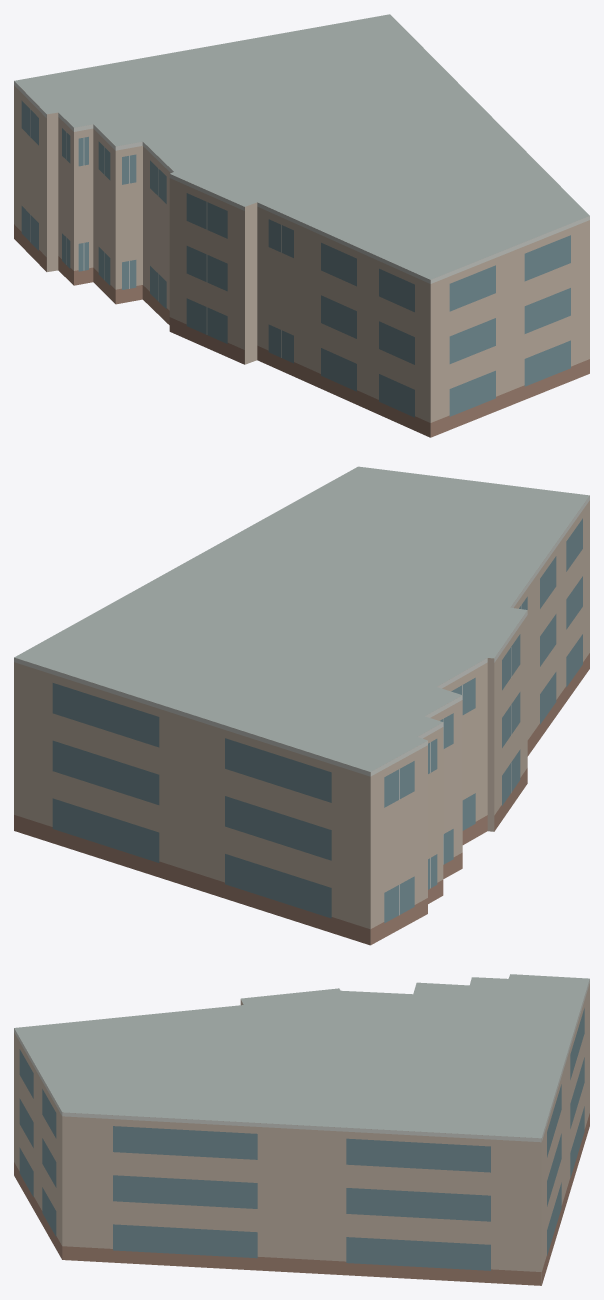
File: survey-upis-32945389.glb
The picture shows the model from 3 angles, top to bottom: view 1: azimuth 30°, elevation 25°; view 2: azimuth 150°, elevation 25°; view 3: azimuth 270°, elevation 25°; orthographic projection. The views are drawn at different scales.
Parts seen in each view (by area): view 1: survey-upis-32945389.tmp; view 2: survey-upis-32945389.tmp; view 3: survey-upis-32945389.tmp.
Boxes of the visible parts, x1=… form: survey-upis-32945389.tmp: x1=14, y1=14, x2=589, y2=437; survey-upis-32945389.tmp: x1=14, y1=466, x2=589, y2=945; survey-upis-32945389.tmp: x1=14, y1=974, x2=589, y2=1285.
Size of the model in its own units: 21.85 by 9.15 by 32.38.
